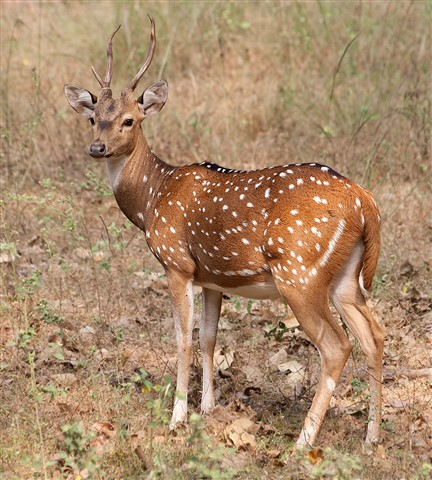Deer: (62, 12, 385, 457)
